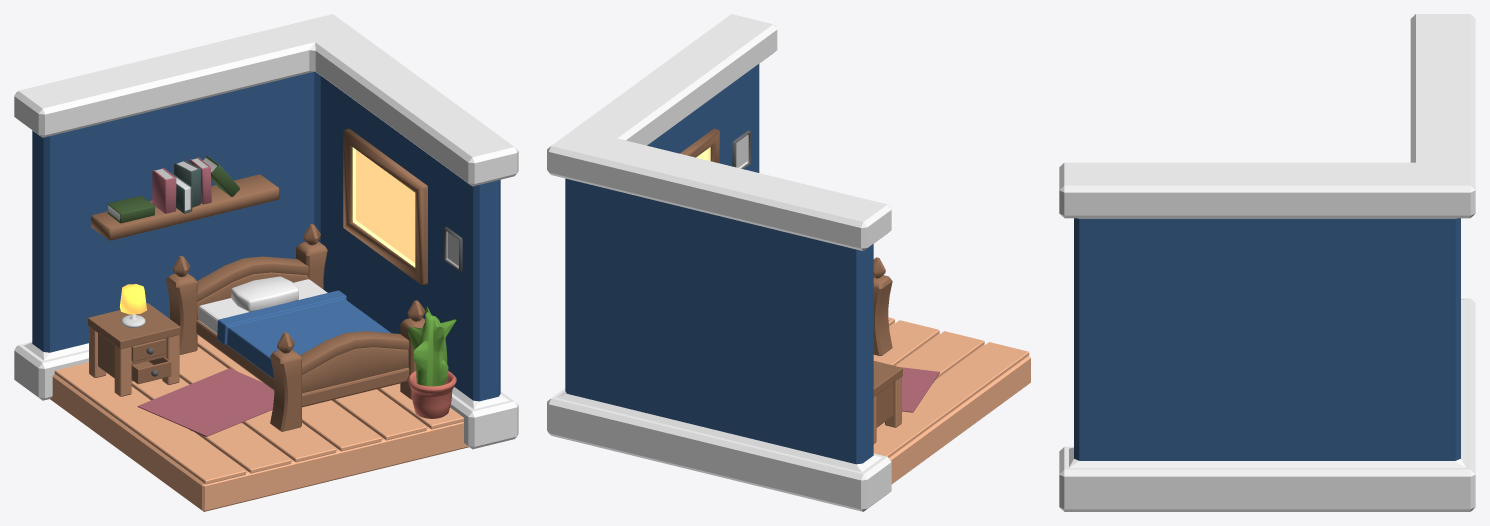
Rendered from low_poly_isometric_bedroom.glb.
3 renders of one model, left to right at view 1: azimuth 30°, elevation 25°; view 2: azimuth 150°, elevation 25°; view 3: azimuth 270°, elevation 25°, orthographic. The views are drawn at different scales.
Visible parts, largest first — view 1: walls, floor_tiles, floor, window, Plane.003, Plane.004, Plane.006, rug, night_stand, shelf, Plane.002, plant (+10 smaller); view 2: walls, floor_tiles, floor, Plane.004, night_stand, rug, window, night_stand_legs, image; view 3: walls.
Part boxes in pixels (x1,y1,x2,y2): walls: (14,14,518,449); floor_tiles: (54,335,463,484); floor: (50,346,468,511); window: (343,128,427,284); Plane.003: (197,256,409,393); Plane.004: (166,224,424,431); Plane.006: (217,290,391,378); rug: (137,368,274,436); night_stand: (87,303,180,384); shelf: (91,174,279,240); Plane.002: (196,319,409,407); plant: (408,306,456,386); walls: (547,14,891,511); floor_tiles: (873,317,1029,457); floor: (889,323,1030,483); Plane.004: (873,257,892,355); night_stand: (873,361,902,427); rug: (901,367,939,412); window: (680,128,719,163); night_stand_legs: (873,376,901,443); image: (732,130,750,169); walls: (1059,14,1475,511).
Size of the model in its own units: 2.37 by 2.07 by 2.37.
